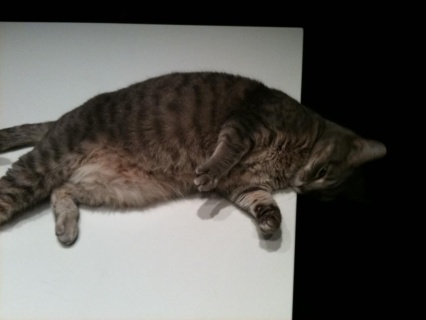Cat: (0, 66, 387, 245)
